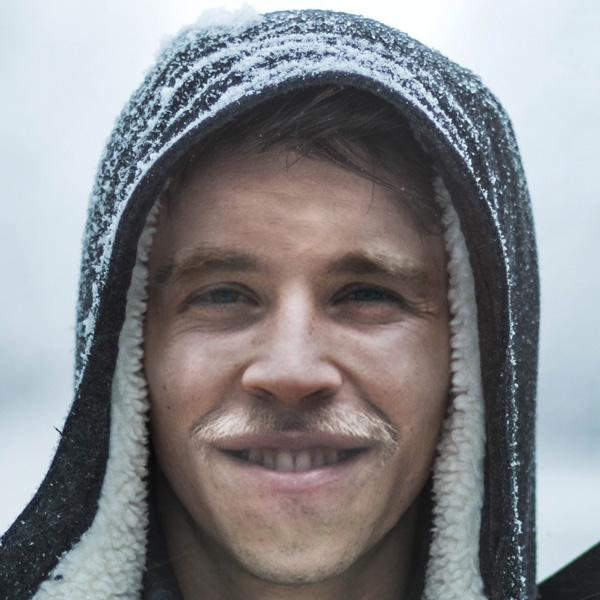Eyes: (321, 275, 418, 322), (176, 272, 269, 321)
